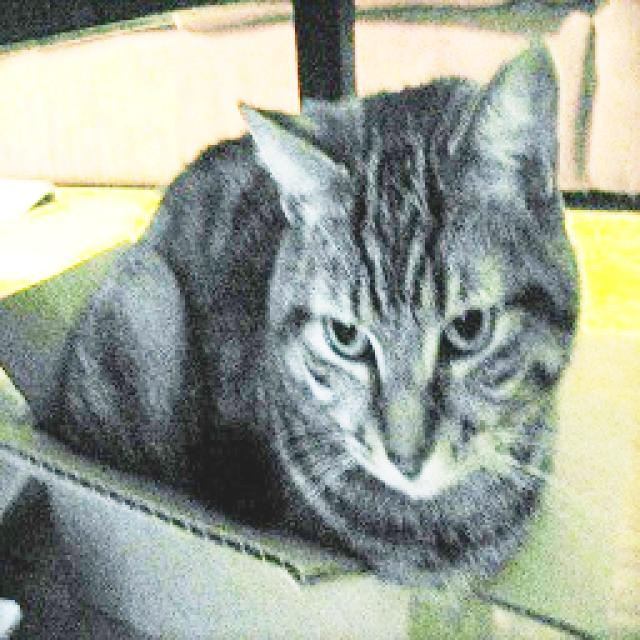cat: (31, 25, 579, 548)
